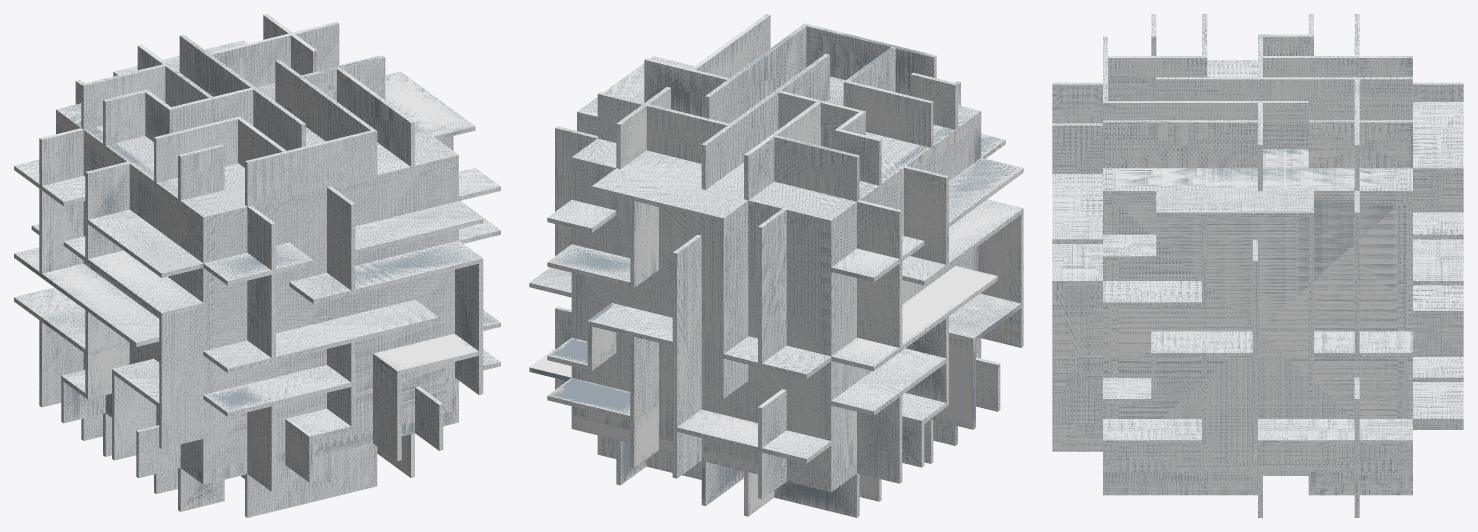
The picture shows the model from 3 angles, left to right: view 1: azimuth 30°, elevation 25°; view 2: azimuth 150°, elevation 25°; view 3: azimuth 270°, elevation 25°; orthographic projection. The views are drawn at different scales.
Parts seen in each view (by area): view 1: Group15, Group21, Group38, Group57, Group41, Group106, Group40, Group14, Group56, Group23, Group6, Group24 (+48 smaller); view 2: Group13, Group91, Group14, Group41, Group90, Group40, Group23, Group3, Group19, Group22, Group24, Group21 (+53 smaller); view 3: Group11, Group23, Group26, Group55, Group19, Group22, Group27, Group72, Group75, Group10, Group60, Group9 (+36 smaller).
Boxes of the visible parts, x1=… form: Group15: x1=216, y1=171, x2=446, y2=468; Group21: x1=245, y1=130, x2=372, y2=206; Group38: x1=159, y1=307, x2=203, y2=448; Group57: x1=203, y1=299, x2=439, y2=372; Group41: x1=39, y1=128, x2=83, y2=273; Group106: x1=245, y1=443, x2=372, y2=517; Group40: x1=14, y1=247, x2=159, y2=346; Group14: x1=63, y1=128, x2=196, y2=465; Group56: x1=289, y1=240, x2=483, y2=303; Group23: x1=179, y1=34, x2=305, y2=150; Group6: x1=196, y1=150, x2=458, y2=230; Group24: x1=209, y1=22, x2=339, y2=87; Group13: x1=584, y1=174, x2=818, y2=475; Group91: x1=672, y1=235, x2=701, y2=478; Group14: x1=838, y1=130, x2=973, y2=473; Group41: x1=857, y1=200, x2=902, y2=347; Group90: x1=719, y1=199, x2=748, y2=398; Group40: x1=831, y1=265, x2=997, y2=371; Group23: x1=701, y1=53, x2=829, y2=189; Group3: x1=818, y1=229, x2=838, y2=478; Group19: x1=592, y1=81, x2=960, y2=211; Group22: x1=705, y1=23, x2=808, y2=123; Group24: x1=597, y1=92, x2=729, y2=163; Group21: x1=806, y1=24, x2=936, y2=95; Group11: x1=1118, y1=205, x2=1397, y2=457; Group23: x1=1156, y1=77, x2=1412, y2=120; Group26: x1=1103, y1=120, x2=1257, y2=168; Group55: x1=1052, y1=285, x2=1102, y2=423; Group19: x1=1118, y1=66, x2=1397, y2=184; Group22: x1=1103, y1=101, x2=1308, y2=149; Group27: x1=1308, y1=120, x2=1412, y2=168; Group72: x1=1156, y1=191, x2=1308, y2=216; Group75: x1=1258, y1=419, x2=1412, y2=444; Group10: x1=1118, y1=458, x2=1397, y2=471; Group60: x1=1052, y1=174, x2=1102, y2=243; Group9: x1=1118, y1=184, x2=1397, y2=204.
Size of the model in its own units: 16.2 by 16.2 by 16.2.
